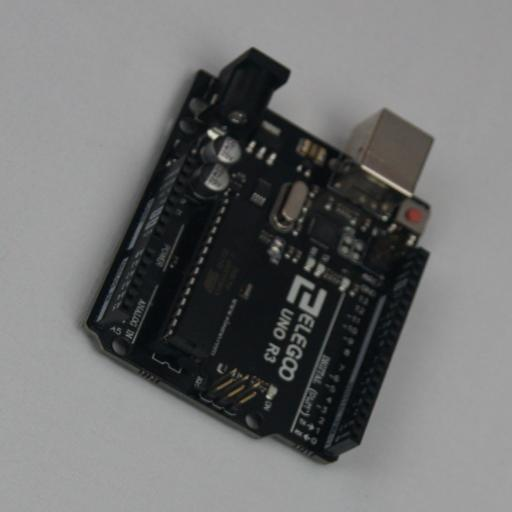Arduino Uno -Black-: (78, 48, 433, 464)
